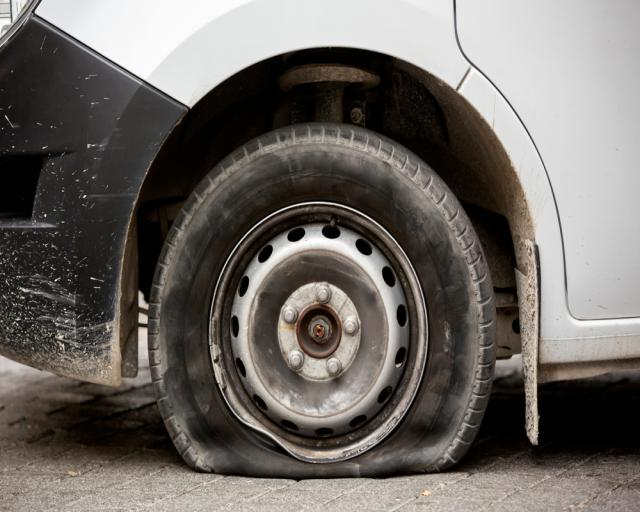tire flat: (146, 120, 496, 479)
